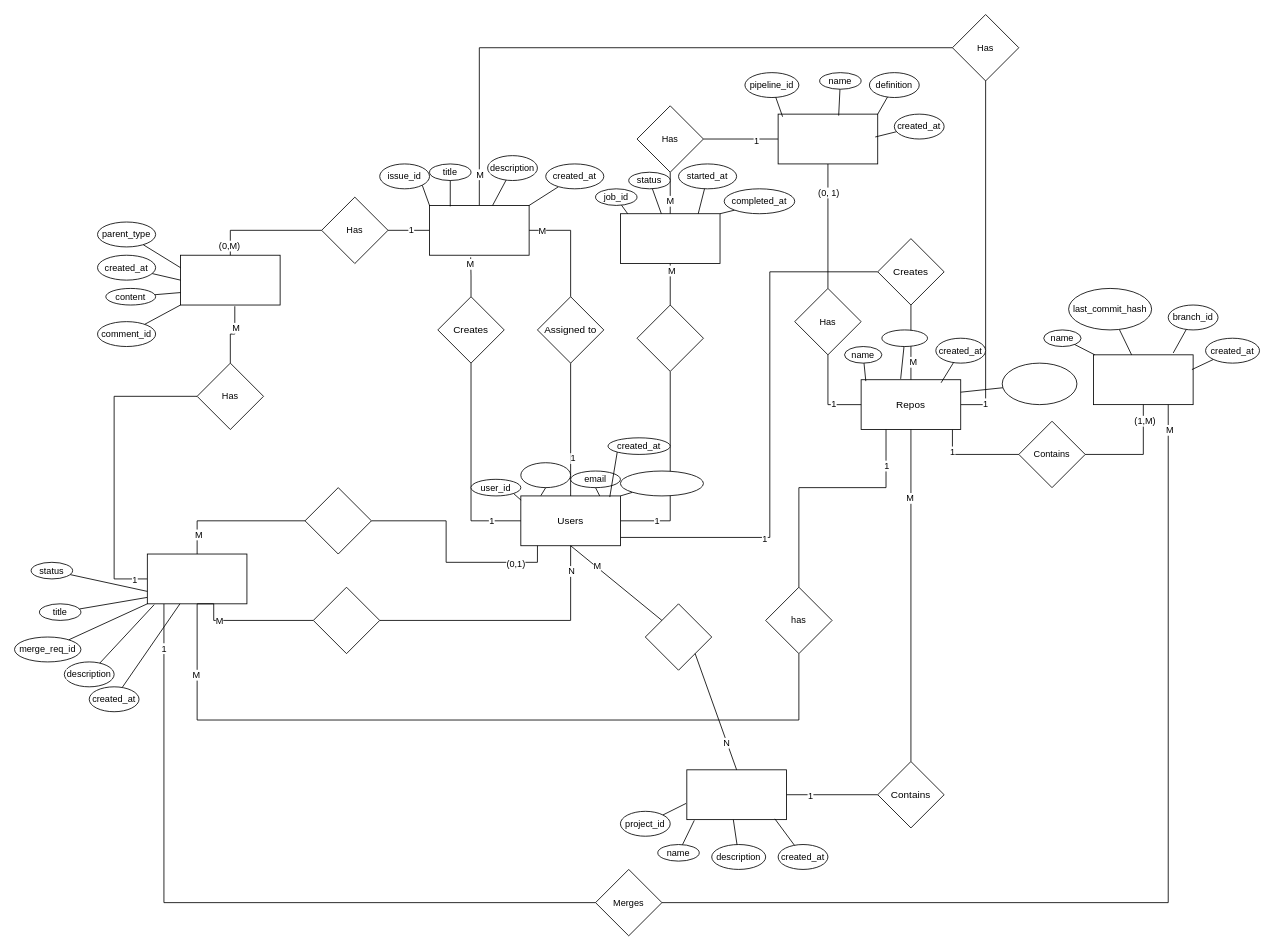
The diagram is 1274 pixels wide and 950 high, and some of its shapes have lost their labels. The shapes that lost their labels are listed below. From the top down, each one's box as (x1, y1, x2, y2) in pixels, then its label:
(777, 113, 878, 164): Pipelines
(429, 205, 529, 255): Issues
(620, 213, 720, 264): Jobs
(180, 254, 280, 305): Comments
(636, 304, 703, 371): Launches
(881, 329, 928, 347): repo_id
(1001, 362, 1077, 405): last_updated_at
(1093, 354, 1193, 405): Branches
(520, 462, 571, 488): username
(620, 470, 703, 496): password_hash
(304, 487, 371, 554): Opens
(146, 553, 247, 604): Merge Requests
(312, 586, 380, 654): Approves
(644, 603, 712, 670): Belongs to
(686, 769, 786, 820): Projects
